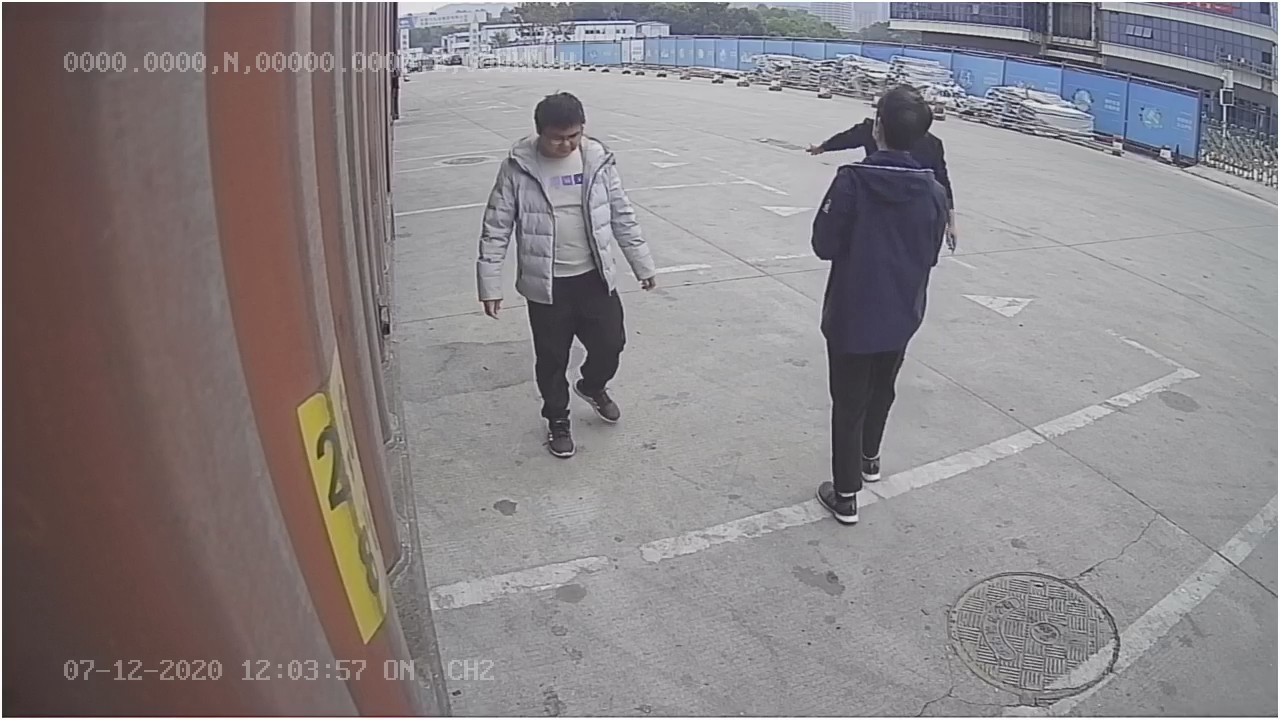person: (474, 89, 661, 462)
